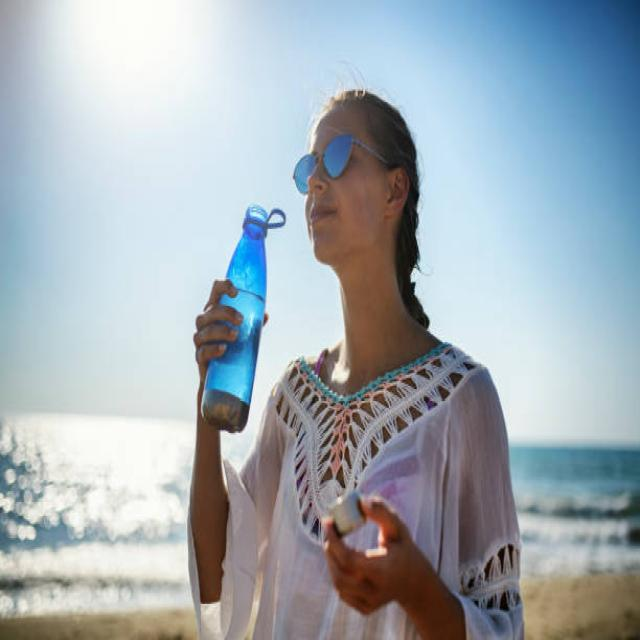blue_bottle: (195, 197, 279, 443)
